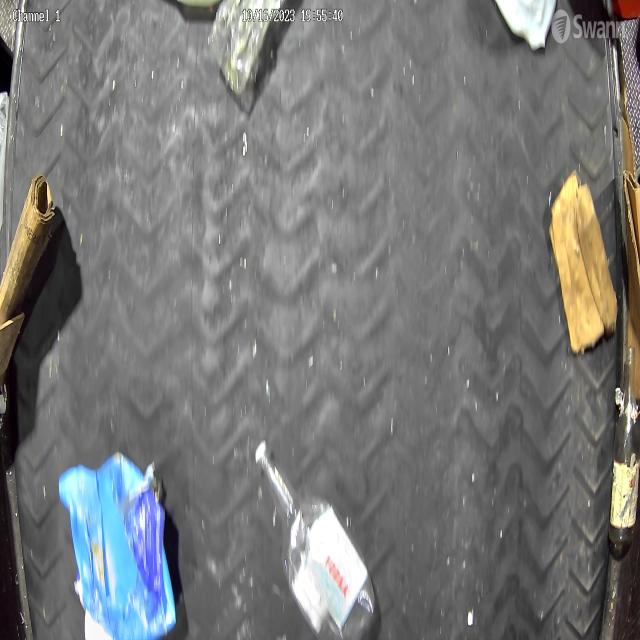non_white_jug: (58, 452, 180, 640)
